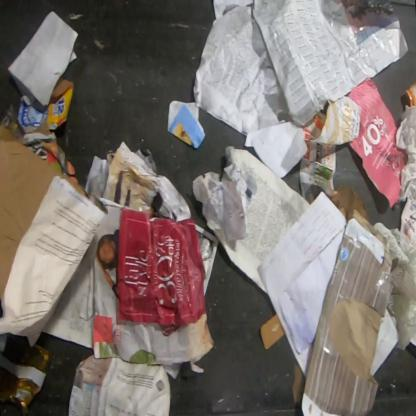cardboard: (300, 207, 415, 415), (0, 124, 88, 305), (16, 75, 74, 137), (330, 184, 367, 220), (259, 312, 286, 352)
soft_plastic: (0, 332, 52, 409), (404, 81, 415, 109)
